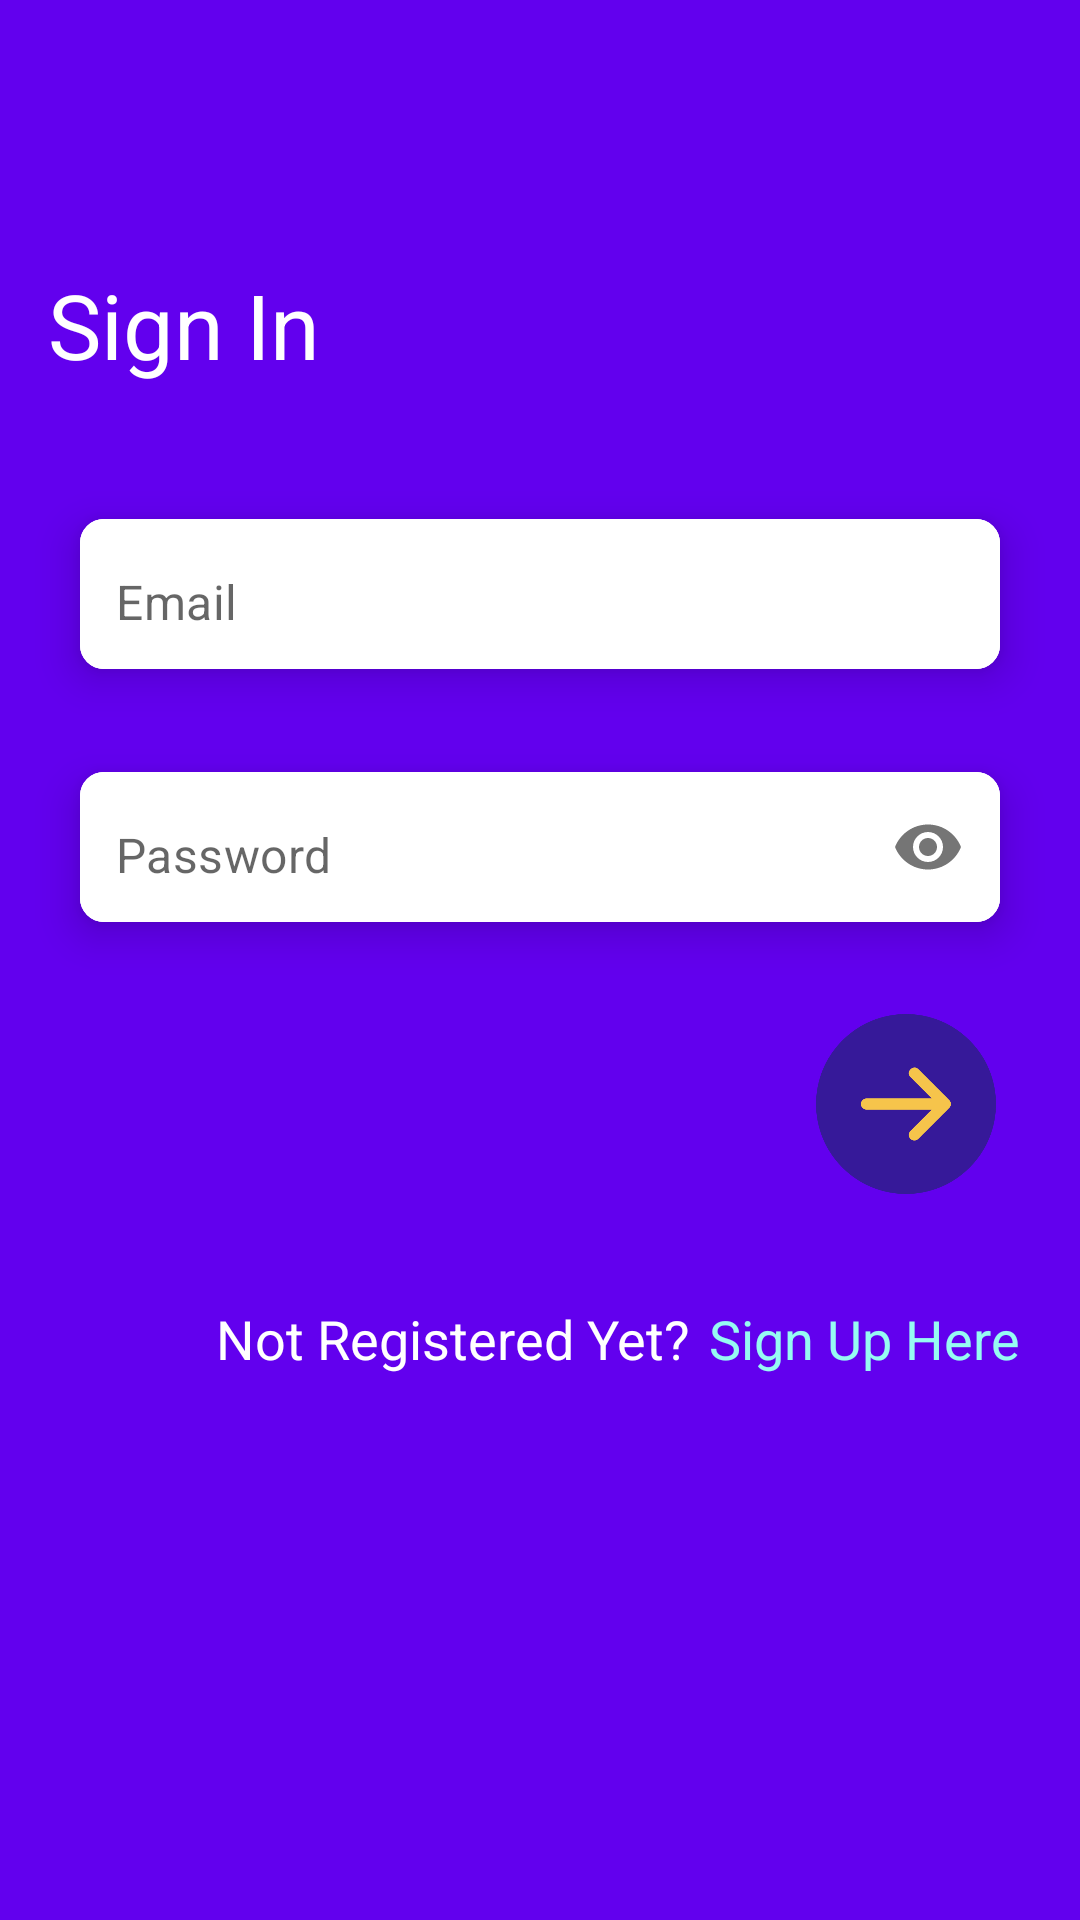

Where icons sit on this 1080 x 1920 app screen, as (x1, y1, x2, y2):
rightarrownext: (816, 1014, 996, 1194)
